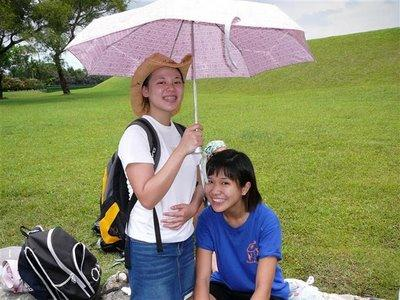person: (118, 53, 205, 300)
